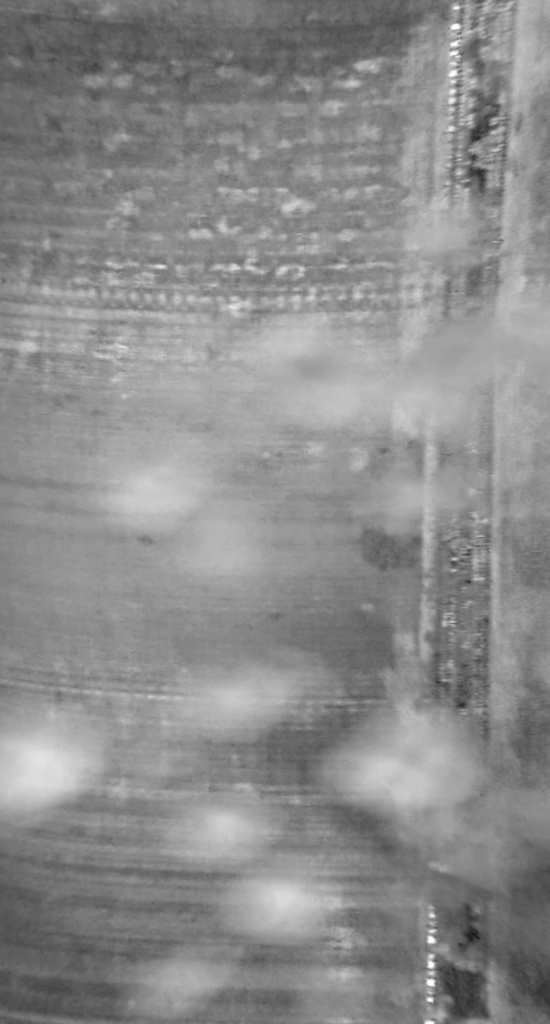splice: (425, 1, 522, 1020)
